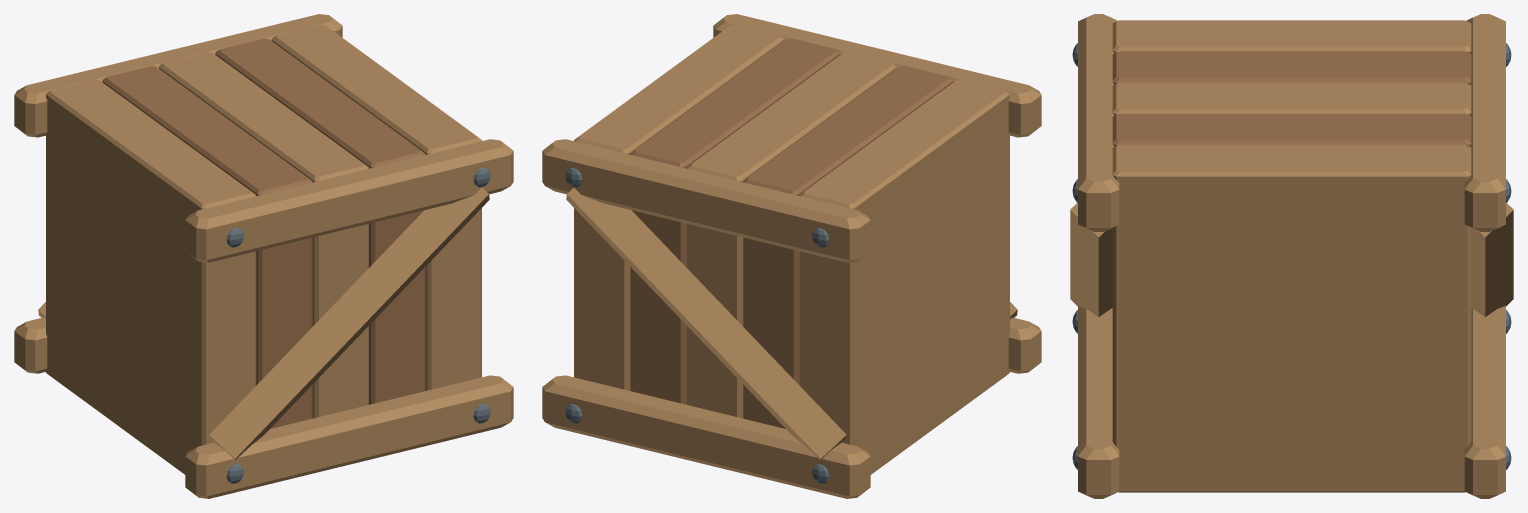
Rendered from source.glb.
3 views of the same model, side by side, from view 1: azimuth 30°, elevation 25°; view 2: azimuth 150°, elevation 25°; view 3: azimuth 270°, elevation 25° (orthographic). The views are drawn at different scales.
Parts seen in each view (by area): view 1: body; view 2: body; view 3: body.
Boxes of the visible parts, box(x1,y1,x2,y2) form: body: box(14, 14, 513, 498); body: box(542, 14, 1041, 498); body: box(1070, 14, 1513, 498).
Bounding box in the file's own units: 0.9 × 0.77 × 0.964.
